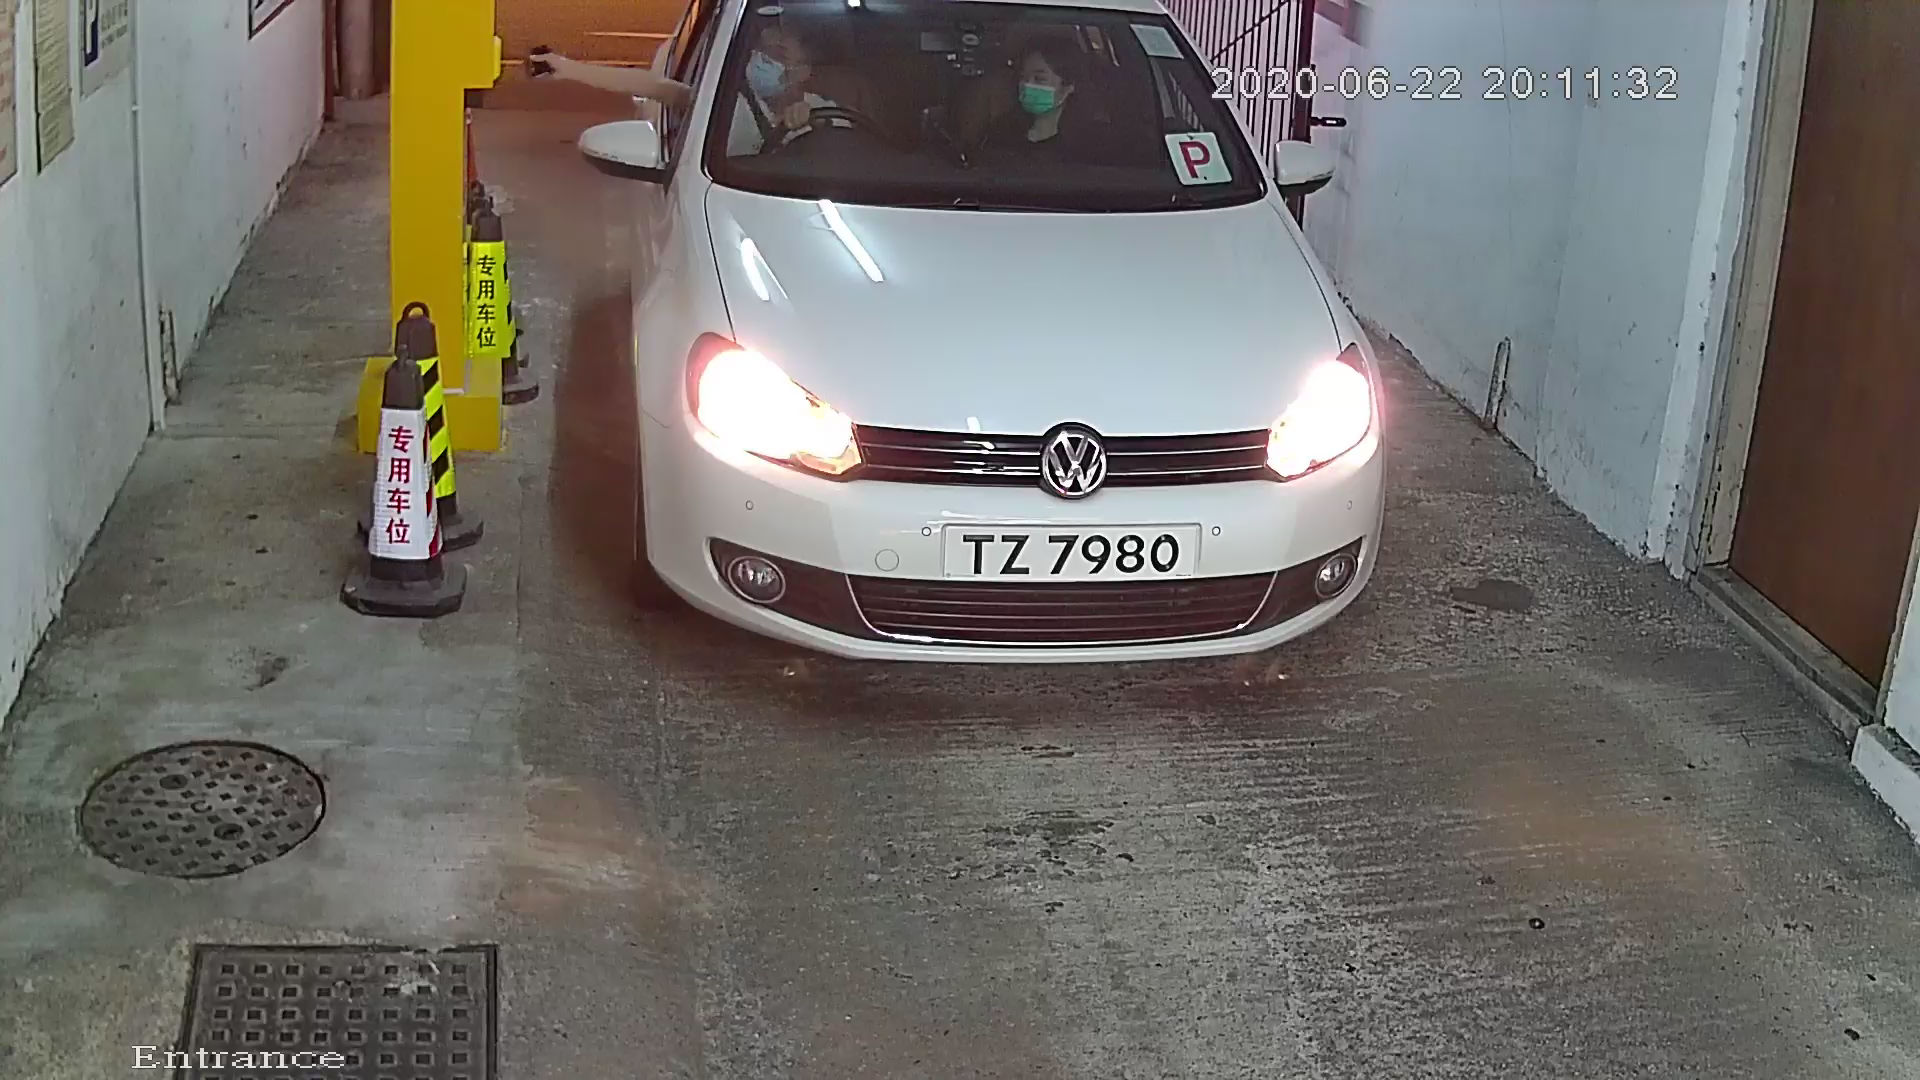privatecar: (582, 3, 1469, 711)
